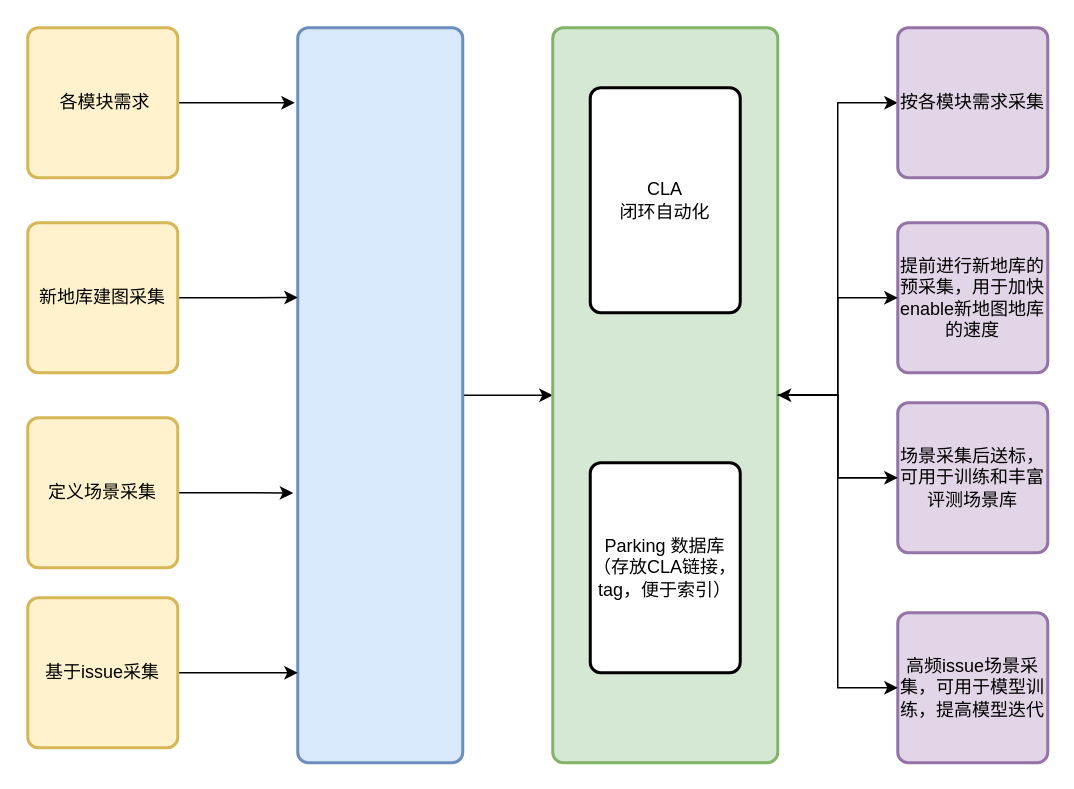
This 1074x789 diagram has some shape labels left out. The box of each missing label's shape, as (x1, y1, x2, y2) in pixels:
实车采集: (296, 26, 464, 764)
数据入库: (550, 26, 778, 764)
